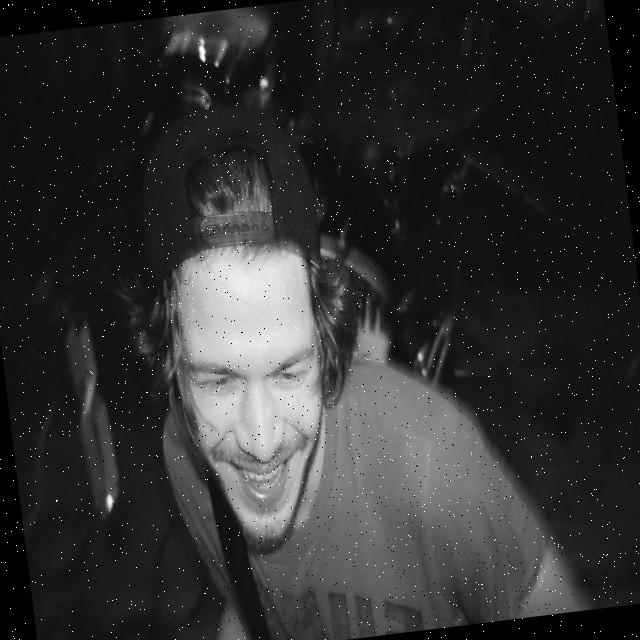Happiness: (158, 230, 347, 560)
